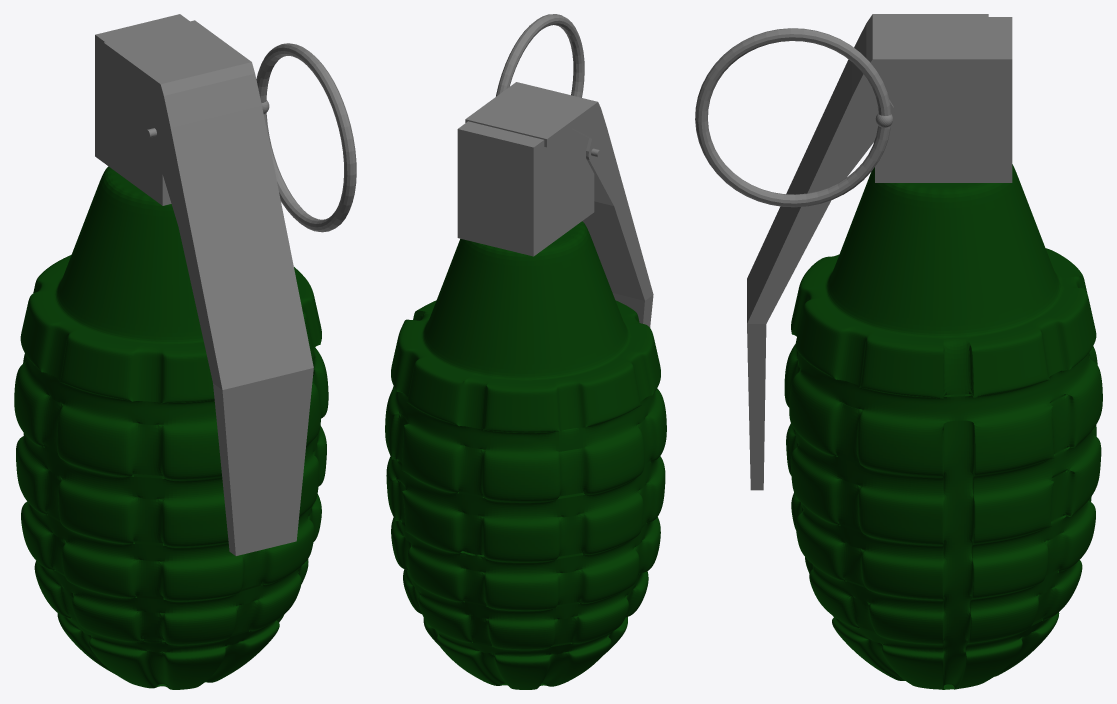
Rendered from Frag Grenade.fbx.
The picture shows the model from 3 angles, left to right: view 1: azimuth 30°, elevation 25°; view 2: azimuth 150°, elevation 25°; view 3: azimuth 270°, elevation 25°; orthographic projection. The views are drawn at different scales.
Visible parts, largest first — view 1: Frag Grenade, Frag Grenade Spoon, Frag Grenade Pin; view 2: Frag Grenade, Frag Grenade Spoon, Frag Grenade Pin; view 3: Frag Grenade, Frag Grenade Spoon, Frag Grenade Pin.
Part boxes in pixels (<box>): Frag Grenade: <box>14,14,328,689</box>; Frag Grenade Spoon: <box>103,20,313,555</box>; Frag Grenade Pin: <box>145,43,356,232</box>; Frag Grenade: <box>385,121,666,689</box>; Frag Grenade Spoon: <box>465,82,653,327</box>; Frag Grenade Pin: <box>496,14,601,157</box>; Frag Grenade: <box>784,17,1102,689</box>; Frag Grenade Spoon: <box>747,14,988,490</box>; Frag Grenade Pin: <box>695,28,892,207</box>.
Bounding box in the file's own units: 165 × 378 × 210.
